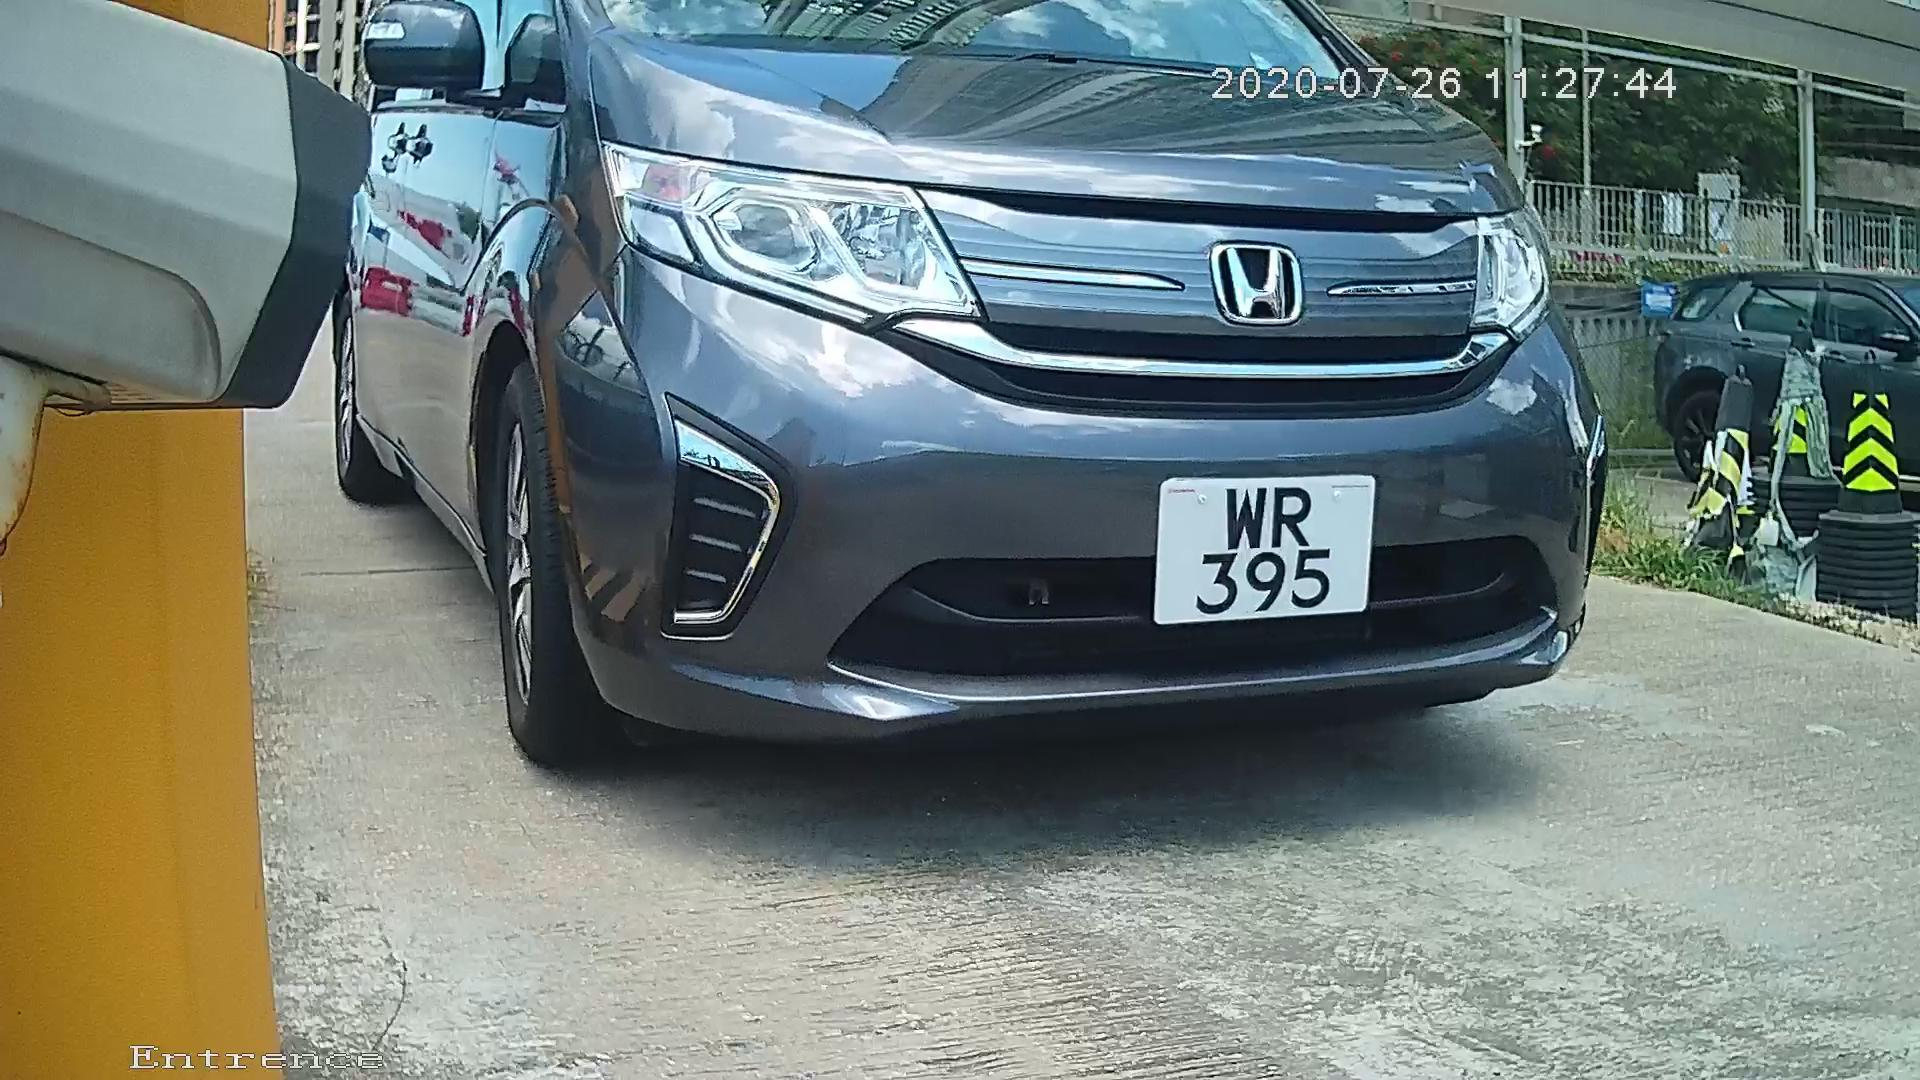privatecar: (241, 1, 1741, 820)
